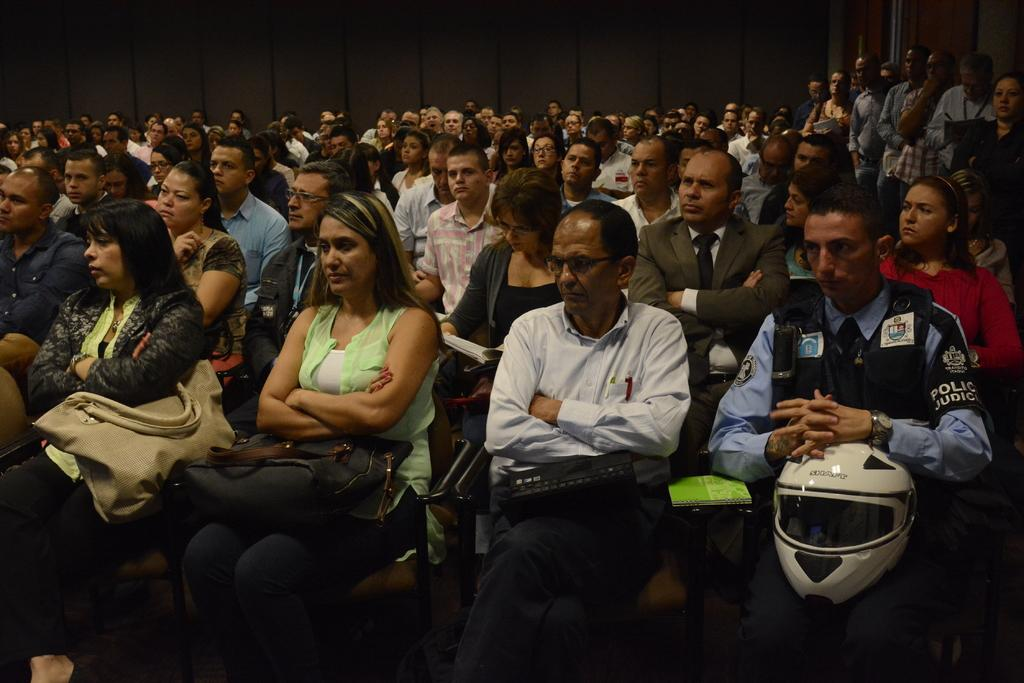helmet: (772, 439, 917, 608)
nohelmet: (548, 198, 641, 324), (801, 184, 896, 307), (316, 191, 399, 306), (79, 197, 171, 297), (490, 164, 563, 260), (897, 171, 968, 259), (675, 147, 744, 231), (285, 160, 352, 239), (155, 160, 217, 236), (0, 166, 60, 240), (783, 166, 841, 233), (204, 134, 257, 205), (628, 133, 678, 203), (445, 141, 493, 207), (63, 146, 109, 210), (557, 135, 603, 191), (958, 49, 996, 105), (758, 133, 795, 188), (990, 71, 1024, 126), (398, 128, 431, 171), (497, 126, 528, 171), (150, 145, 182, 185), (531, 133, 563, 173), (904, 45, 934, 82), (926, 50, 955, 88), (854, 52, 881, 89), (102, 125, 129, 159), (181, 122, 208, 155), (442, 110, 464, 141), (807, 75, 829, 106), (829, 70, 852, 99), (747, 106, 766, 138), (623, 115, 645, 142), (36, 126, 58, 153), (64, 118, 85, 146), (4, 130, 24, 158), (693, 111, 712, 139), (149, 120, 168, 146), (722, 109, 740, 136), (425, 107, 443, 134), (376, 117, 394, 141), (564, 113, 582, 136), (547, 100, 562, 119)
